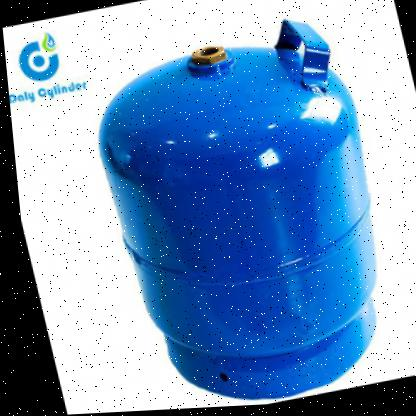gas-tank: (49, 0, 415, 414)
